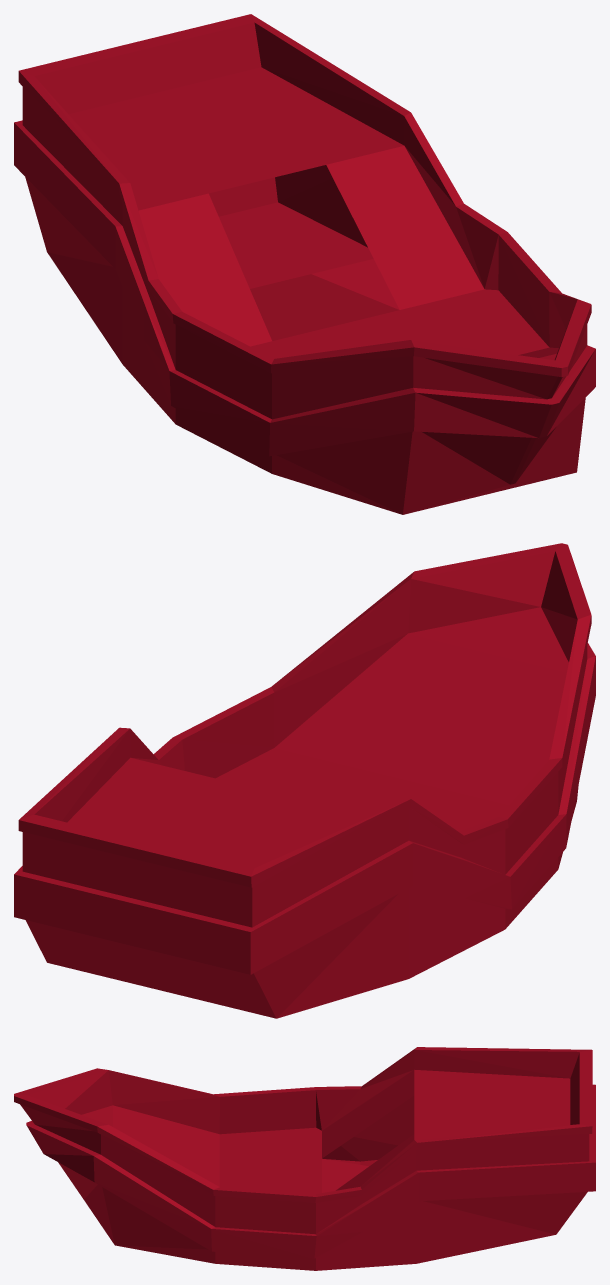
File: sloop-body.glb
The picture shows the model from 3 angles, top to bottom: view 1: azimuth 30°, elevation 25°; view 2: azimuth 150°, elevation 25°; view 3: azimuth 270°, elevation 25°; orthographic projection. The views are drawn at different scales.
Parts seen in each view (by area): view 1: Cube; view 2: Cube; view 3: Cube.
Part boxes in pixels (box(x1,y1,x2,y2)): Cube: box(14, 14, 595, 514); Cube: box(14, 543, 595, 1018); Cube: box(14, 1047, 595, 1270).
Bounding box in the file's own units: 20.29 × 10.89 × 44.58.
